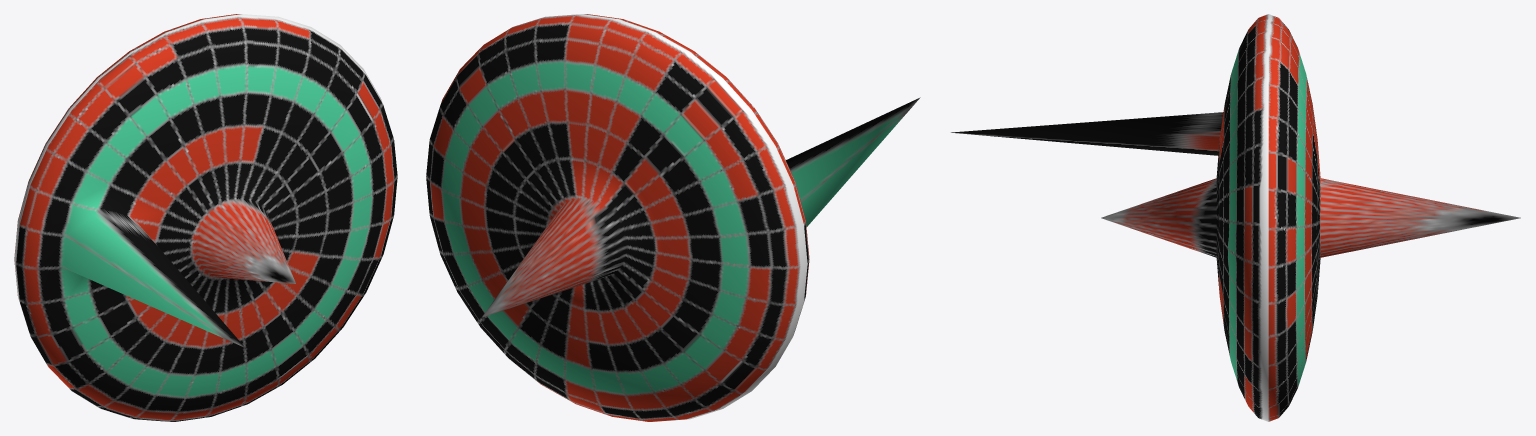
File: ailan_model_textured90x.fbx
3 renders of one model, left to right at view 1: azimuth 30°, elevation 25°; view 2: azimuth 150°, elevation 25°; view 3: azimuth 270°, elevation 25°, orthographic. The views are drawn at different scales.
Visible parts, largest first — view 1: Sphere; view 2: Sphere; view 3: Sphere.
Boxes of the visible parts, bbox=[...] form: Sphere: bbox=[14, 14, 397, 421]; Sphere: bbox=[426, 14, 920, 421]; Sphere: bbox=[951, 14, 1520, 421].
Size of the model in its own units: 6.9 by 6.9 by 9.67.
